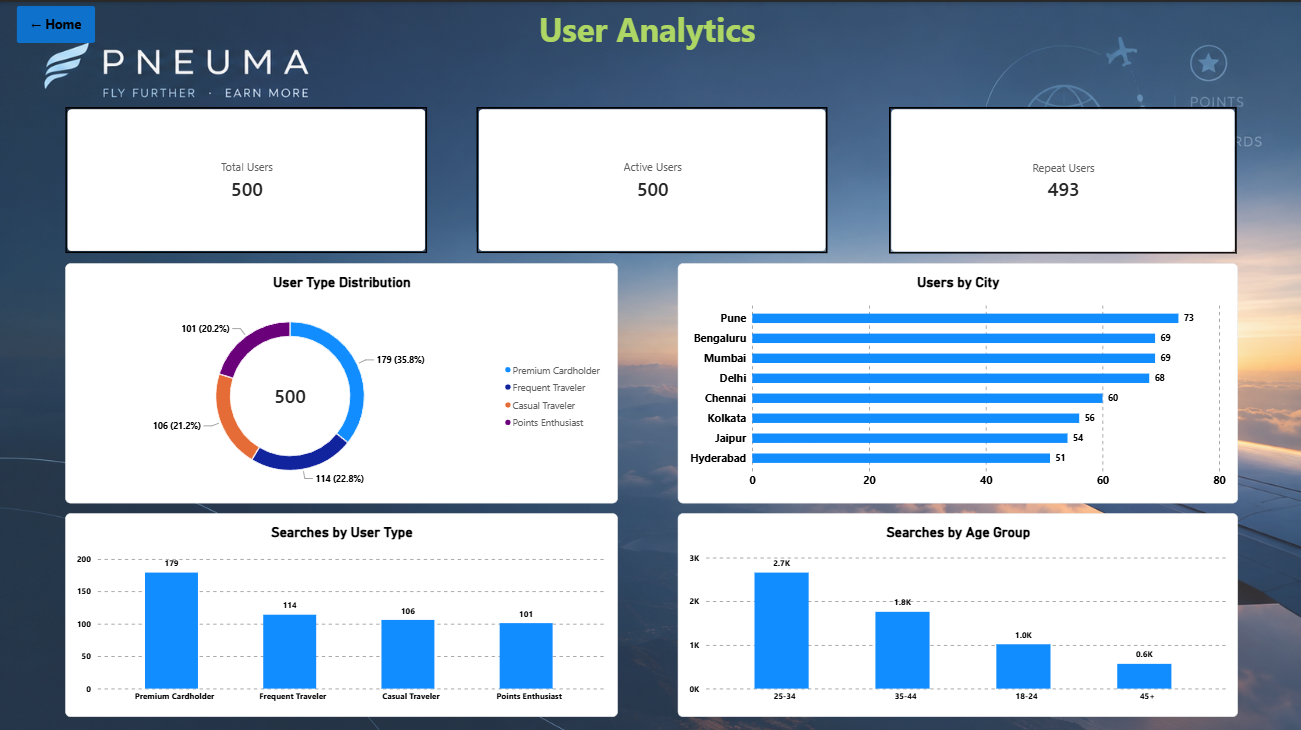

What the dashboard file says about the page in this screenshot:
{"tool":"powerbi","page":{"name":"User Analytics","canvas":[1920,1080],"ordinal":4},"visuals":[{"type":"textbox","box":[204.3,0,1512.9,121.5],"z":0},{"type":"cardVisual","fields":{"Data":["users.Total Users"]},"box":[97.5,154.6,533.7,215.3],"z":1000},{"type":"cardVisual","fields":{"Data":["users.Active Users"]},"box":[703.1,154.6,517.2,215.3],"z":2000},{"type":"cardVisual","fields":{"Data":["users.Repeat Users"]},"box":[1310.4,154.6,512.5,216.1],"z":3000},{"type":"donutChart","title":"User Type Distribution","fields":{"Category":["users.user_type"],"Y":["CountNonNull(users.user_id)"]},"box":[97.5,384.7,813.5,353.4],"z":4000},{"type":"clusteredBarChart","title":"Users by City","fields":{"Category":["users.city"],"Y":["CountNonNull(users.user_id)"]},"box":[999.4,384.7,824.5,353.4],"z":5000},{"type":"clusteredColumnChart","title":"Searches by User Type","fields":{"Category":["users.user_type"],"Y":["CountNonNull(users.user_id)"]},"box":[97.5,752.8,813.5,300],"z":6000},{"type":"clusteredColumnChart","title":"Searches by Age Group","fields":{"Category":["users.age_group"],"Y":["CountNonNull(searches.search_id)"]},"box":[999.4,752.8,824.5,300],"z":7000},{"type":"actionButton","box":[25.8,5.5,116,55],"z":7001}]}

Visuals, with their boxes in screenshot pixels (x1, y1, x2, y2), scaled from the page's 1920x1080 canvas onto the 1301x730 screenshot:
textbox: bbox(138, 0, 1164, 82)
cardVisual - users.Total Users: bbox(66, 104, 428, 250)
cardVisual - users.Active Users: bbox(476, 104, 827, 250)
cardVisual - users.Repeat Users: bbox(888, 104, 1235, 251)
"User Type Distribution" donutChart: bbox(66, 260, 617, 499)
"Users by City" clusteredBarChart: bbox(677, 260, 1236, 499)
"Searches by User Type" clusteredColumnChart: bbox(66, 509, 617, 712)
"Searches by Age Group" clusteredColumnChart: bbox(677, 509, 1236, 712)
actionButton: bbox(17, 4, 96, 41)
